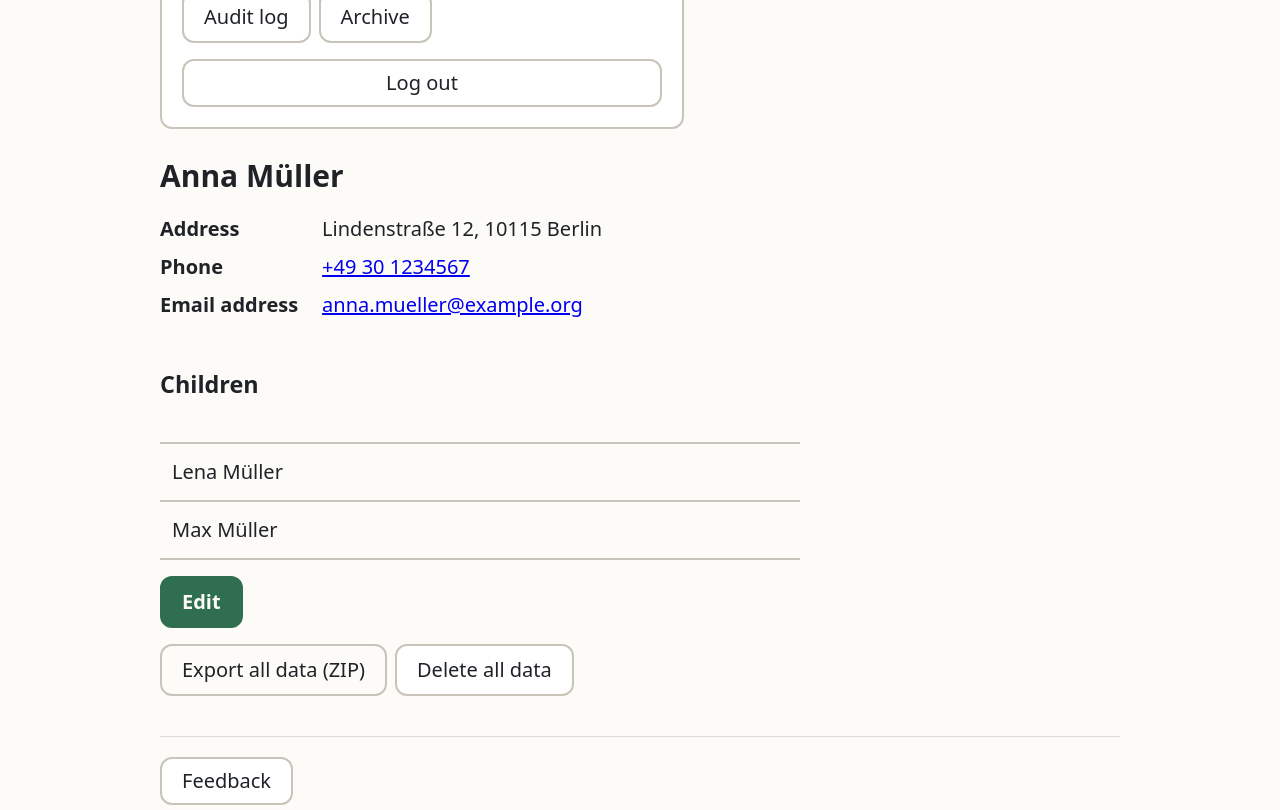
Test: Parents › shows a Parent with all their Children and lets an Admin edit them
(page scrolled)
Click the link "Edit" at [201, 602], box [160,576,243,628]
(page scrolled)
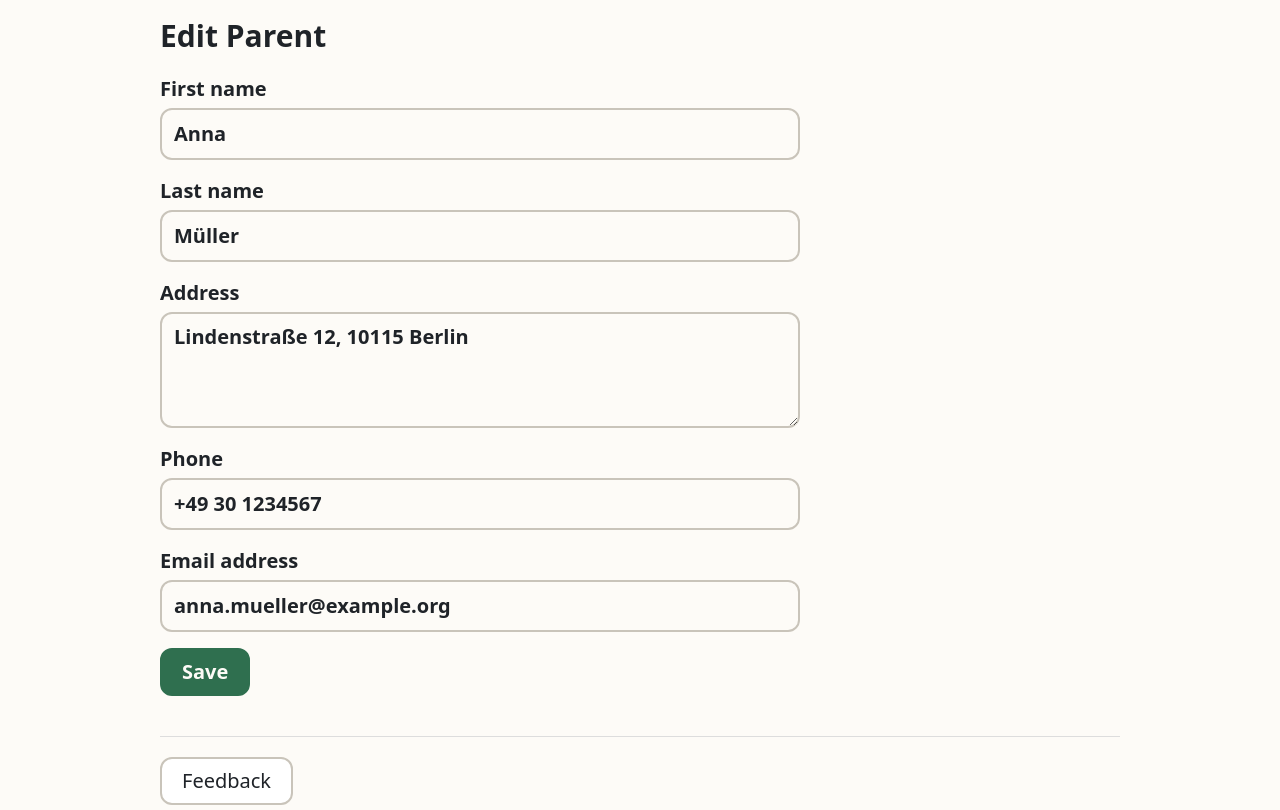
Replace the text in the field labelled "Phone" with "0171 555" at [480, 504], box [160,478,800,530]
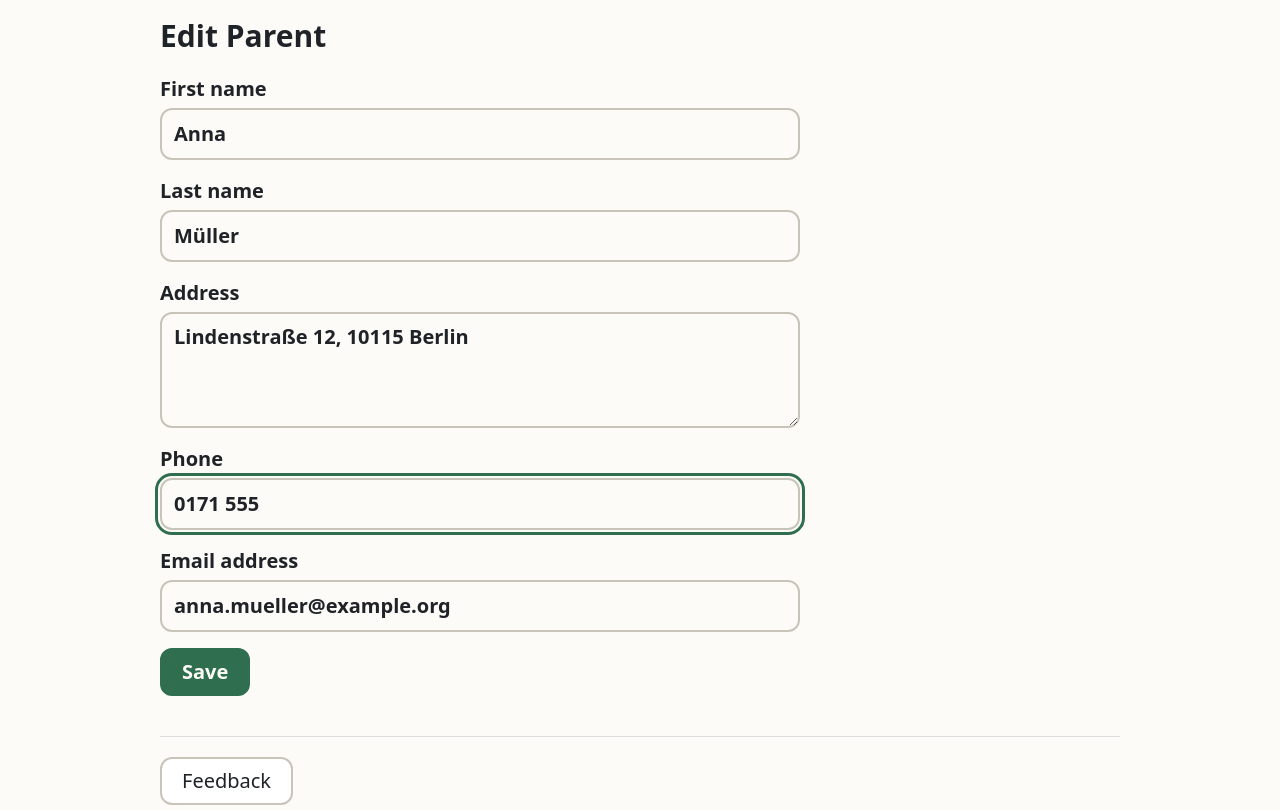
Click the button "Save" at [205, 672], box [160,648,250,696]
(page scrolled)
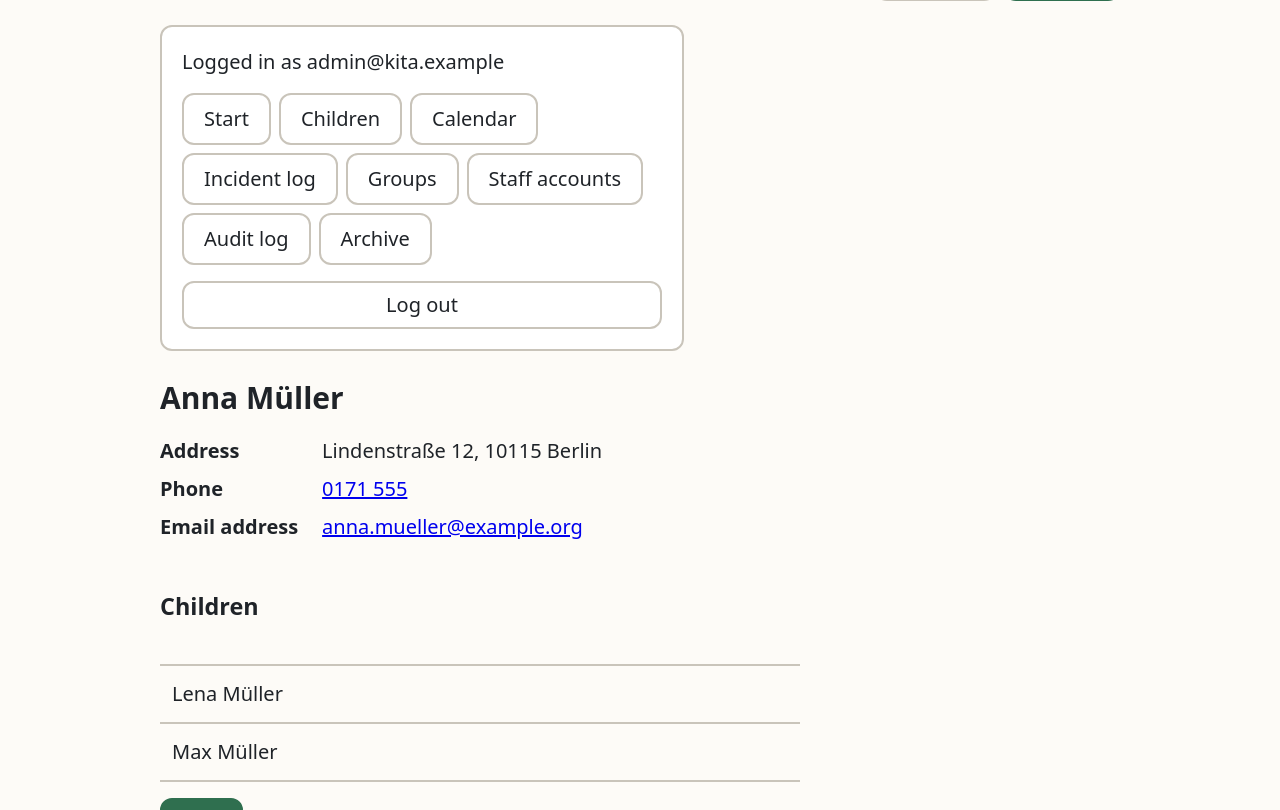
Now the link "0171 555" is shown, box [322,475,407,502]
